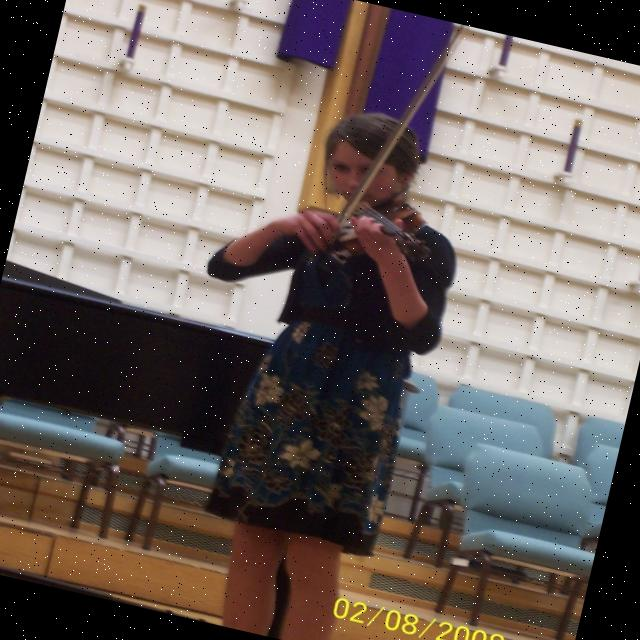violin: (317, 187, 444, 272)
